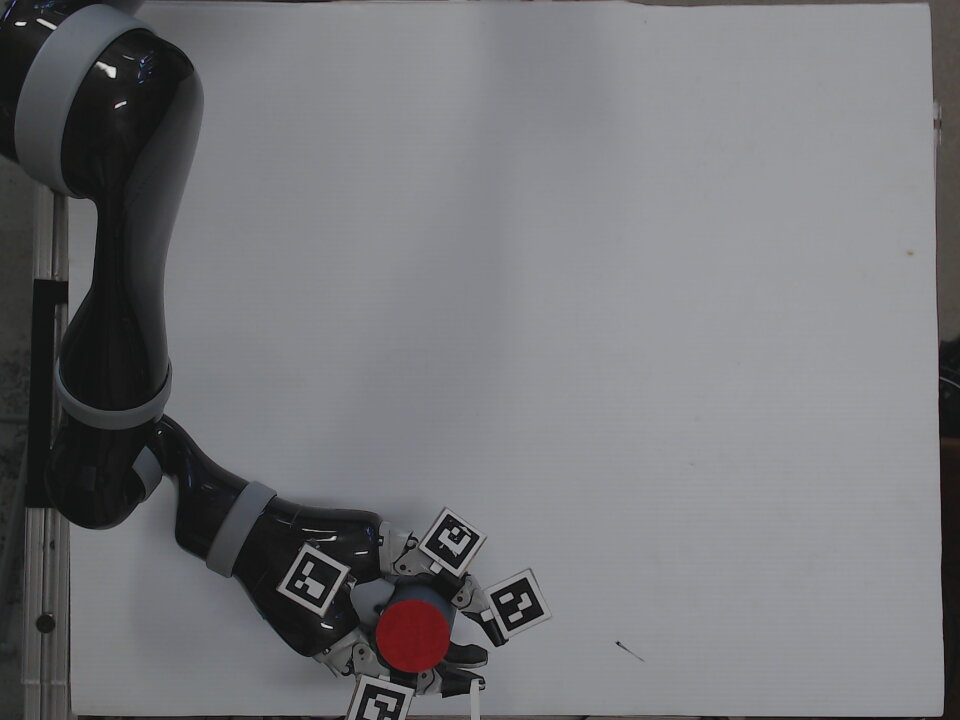cylinder: (373, 579, 457, 676)
